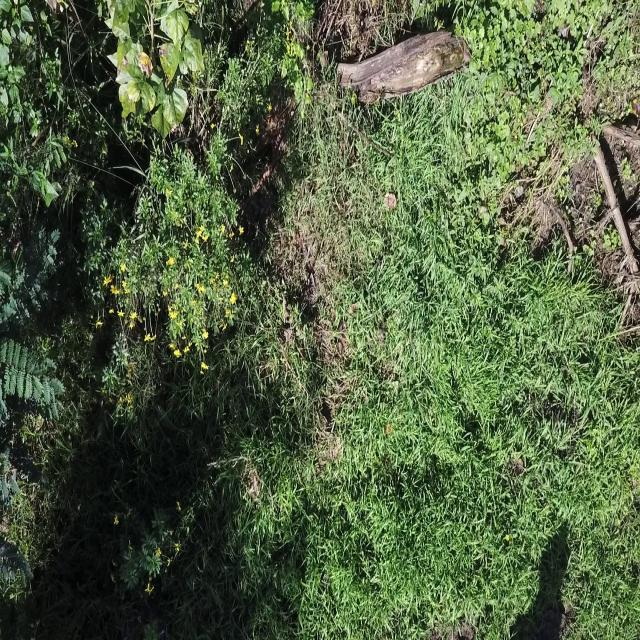Mysore-Thorn-Weed: (0, 201, 64, 518)
